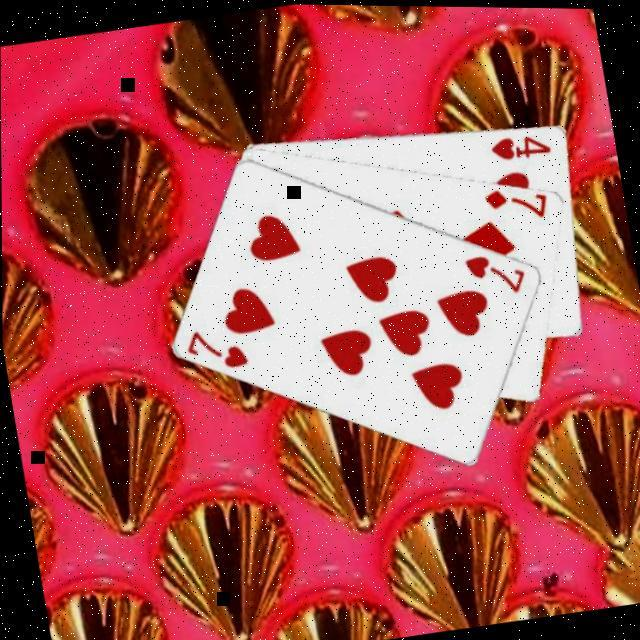4H: (488, 127, 556, 167)
7D: (482, 178, 554, 229)
7H: (182, 320, 255, 379), (462, 245, 533, 303)
